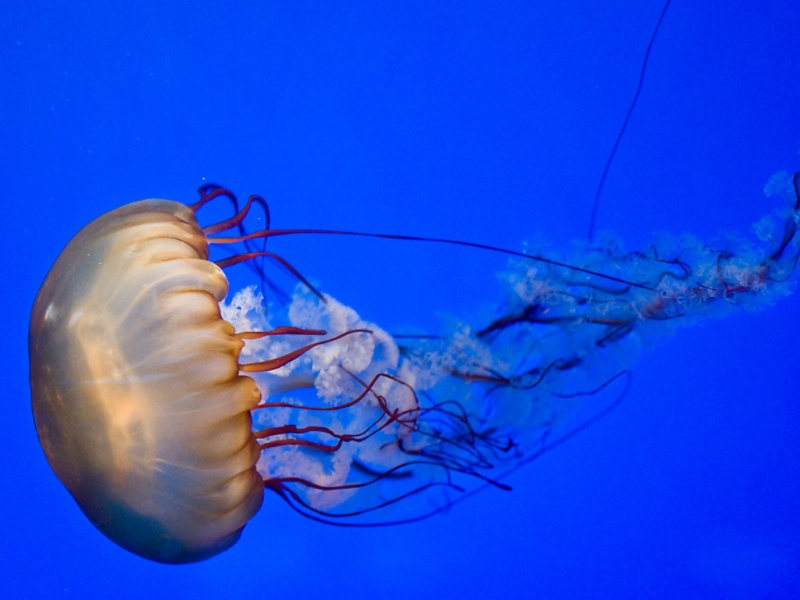Jellyfish: (27, 181, 297, 562)
